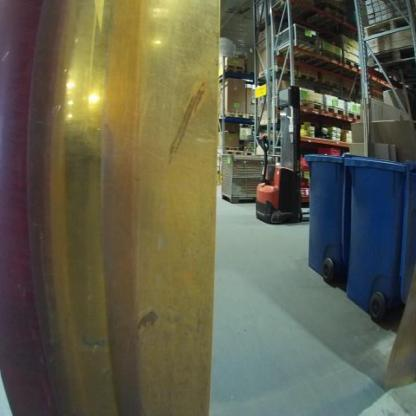pallet: (363, 13, 416, 41), (370, 45, 416, 71), (306, 7, 347, 30), (258, 64, 293, 78), (299, 99, 324, 110), (297, 70, 319, 82), (343, 58, 362, 70), (324, 105, 346, 115), (347, 111, 364, 121), (321, 79, 339, 88), (224, 111, 246, 118), (226, 68, 245, 74), (246, 112, 261, 119), (224, 151, 245, 156), (226, 65, 246, 70)
pallet_truck: (255, 80, 309, 226)
small_load_carrier: (315, 146, 342, 155)
stillage: (218, 150, 276, 203), (275, 21, 321, 56)
